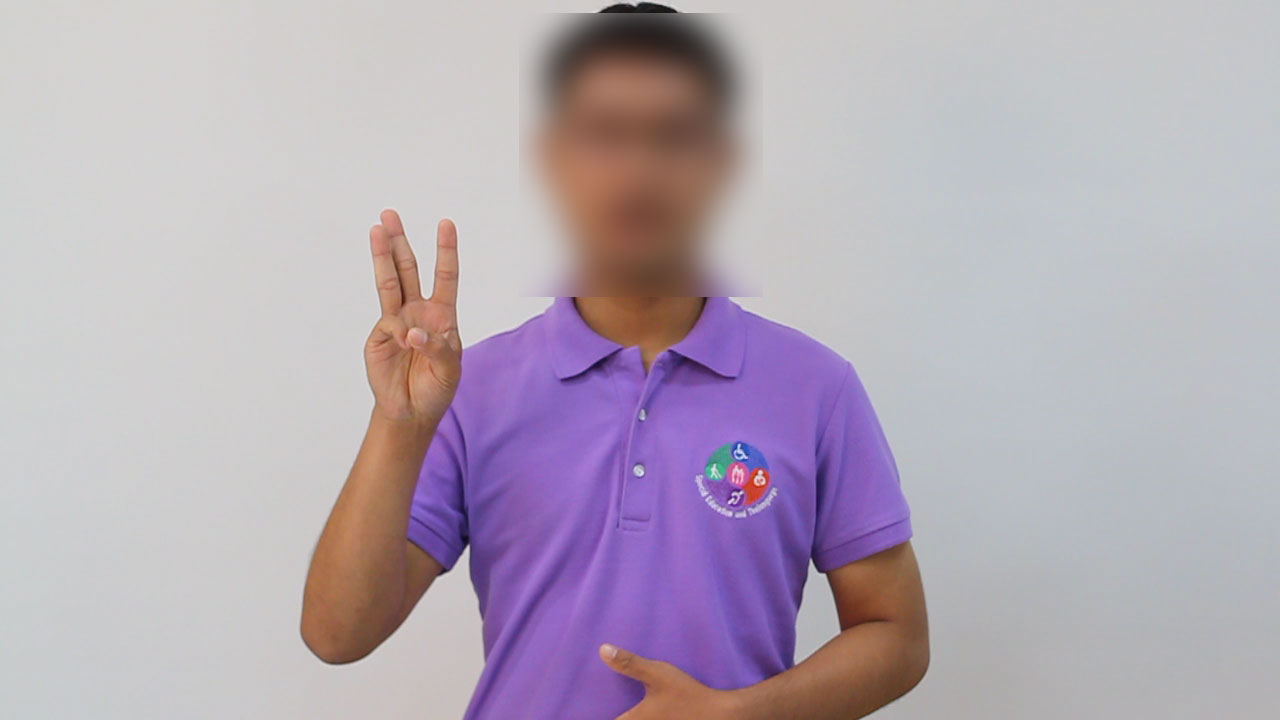wor: (357, 202, 470, 431)
